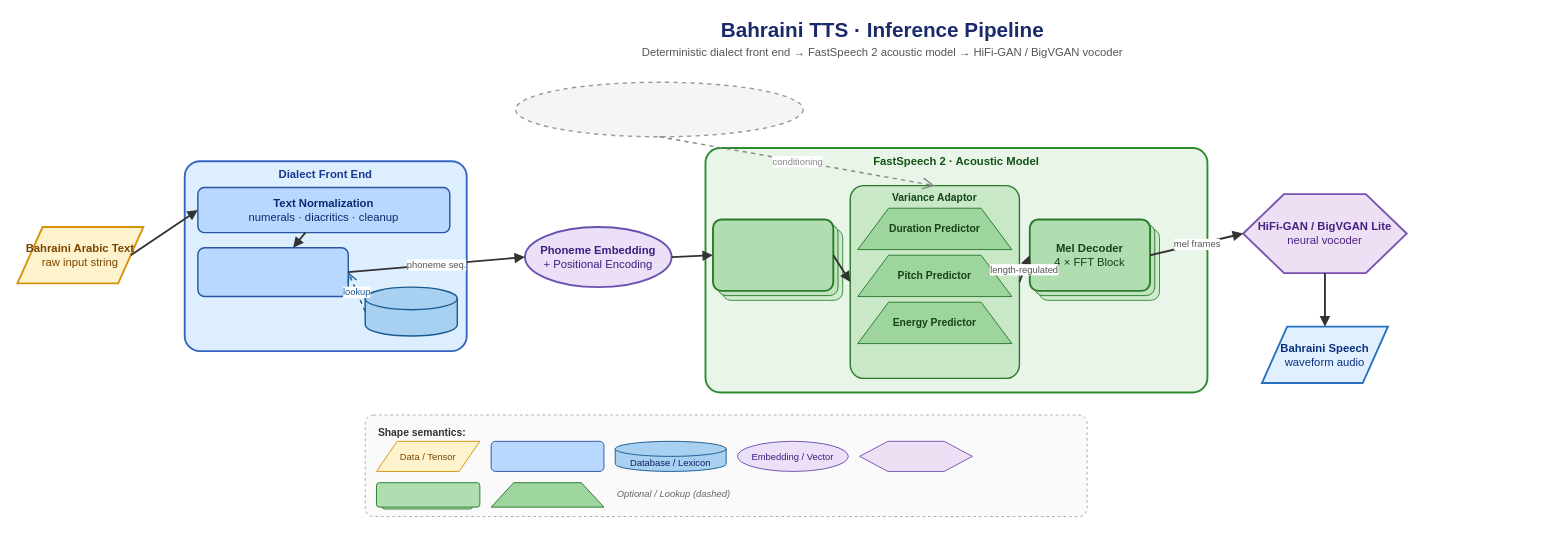
Image size: 1556x533. Some labels were removed from this diagram. Here are the shapes that lost their labels. From the top down, the centre of each, then its label:
At point 659,109: "Speaker Embedding (opt.) · Style Embedding (opt.)".
At point 273,272: "Bahraini G2P phoneme rules · word overrides".
At point 773,254: "Encoder 4 × FFT Block".
At point 411,311: "Bahraini Lexicon".
At point 547,455: "Processing Module".
At point 915,455: "Specialized Synthesis".
At point 428,494: "N × Repeated Layers".
At point 547,494: "Predictor (→ scalar)".
